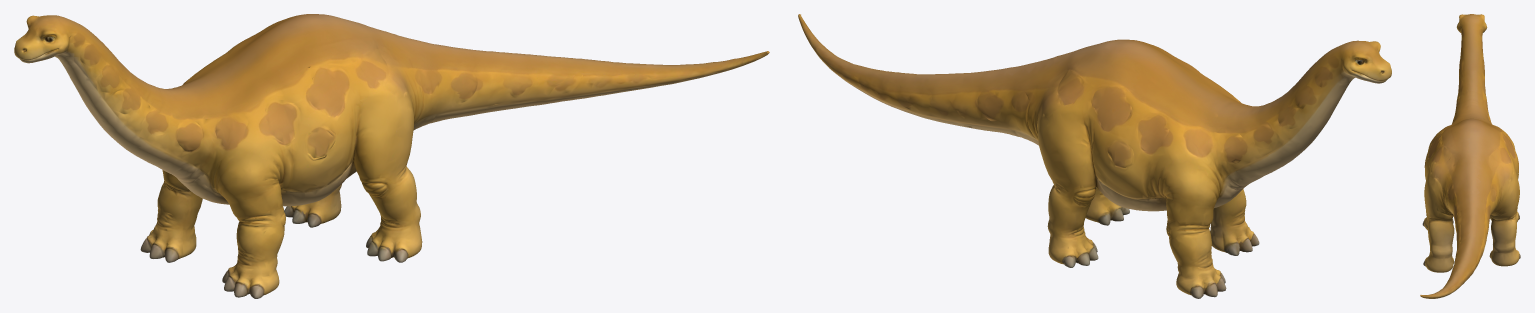
File: brontosaurus-parts.glb
3 renders of one model, left to right at view 1: azimuth 30°, elevation 25°; view 2: azimuth 150°, elevation 25°; view 3: azimuth 270°, elevation 25°, orthographic. The views are drawn at different scales.
Visible parts, largest first — view 1: tripo_part_0, tripo_part_1, tripo_part_2, tripo_part_3, tripo_part_5, tripo_part_6, tripo_part_7, tripo_part_8, tripo_part_4, tripo_part_11, tripo_part_12; view 2: tripo_part_0, tripo_part_1, tripo_part_2, tripo_part_4, tripo_part_6, tripo_part_5, tripo_part_7, tripo_part_13, tripo_part_3, tripo_part_12, tripo_part_9, tripo_part_11; view 3: tripo_part_1, tripo_part_0, tripo_part_2, tripo_part_3, tripo_part_4, tripo_part_7, tripo_part_8, tripo_part_13.
Part boxes in pixels (x1,y1,x2,y2): tripo_part_0: (177,14,389,206); tripo_part_1: (378,29,769,129); tripo_part_2: (53,15,211,181); tripo_part_3: (352,86,422,258); tripo_part_5: (216,150,285,294); tripo_part_6: (147,170,202,257); tripo_part_7: (14,15,71,63); tripo_part_8: (305,64,349,117); tripo_part_4: (291,184,341,223); tripo_part_11: (222,270,265,298); tripo_part_12: (140,233,181,262); tripo_part_0: (1056,39,1247,211); tripo_part_1: (798,14,1089,145); tripo_part_2: (1217,40,1358,189); tripo_part_4: (1037,112,1096,263); tripo_part_6: (1158,161,1220,294); tripo_part_5: (1210,189,1254,252); tripo_part_7: (1340,41,1391,83); tripo_part_13: (1091,85,1132,131); tripo_part_3: (1085,187,1121,222); tripo_part_12: (1189,272,1226,298); tripo_part_9: (1062,242,1098,267); tripo_part_11: (1225,230,1259,255); tripo_part_1: (1420,157,1514,298); tripo_part_0: (1424,112,1518,216); tripo_part_2: (1452,17,1491,123); tripo_part_3: (1424,162,1454,272); tripo_part_4: (1490,167,1519,266); tripo_part_7: (1456,14,1487,32); tripo_part_8: (1428,131,1442,158); tripo_part_13: (1501,132,1515,157).
Size of the model in its own units: 0.9807 by 0.3844 by 0.2129.
1 material, 1 textured.
